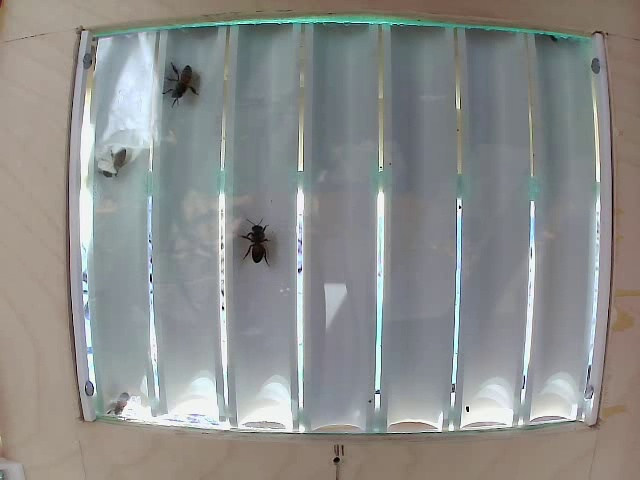bee: (235, 209, 282, 270), (166, 60, 193, 107)
